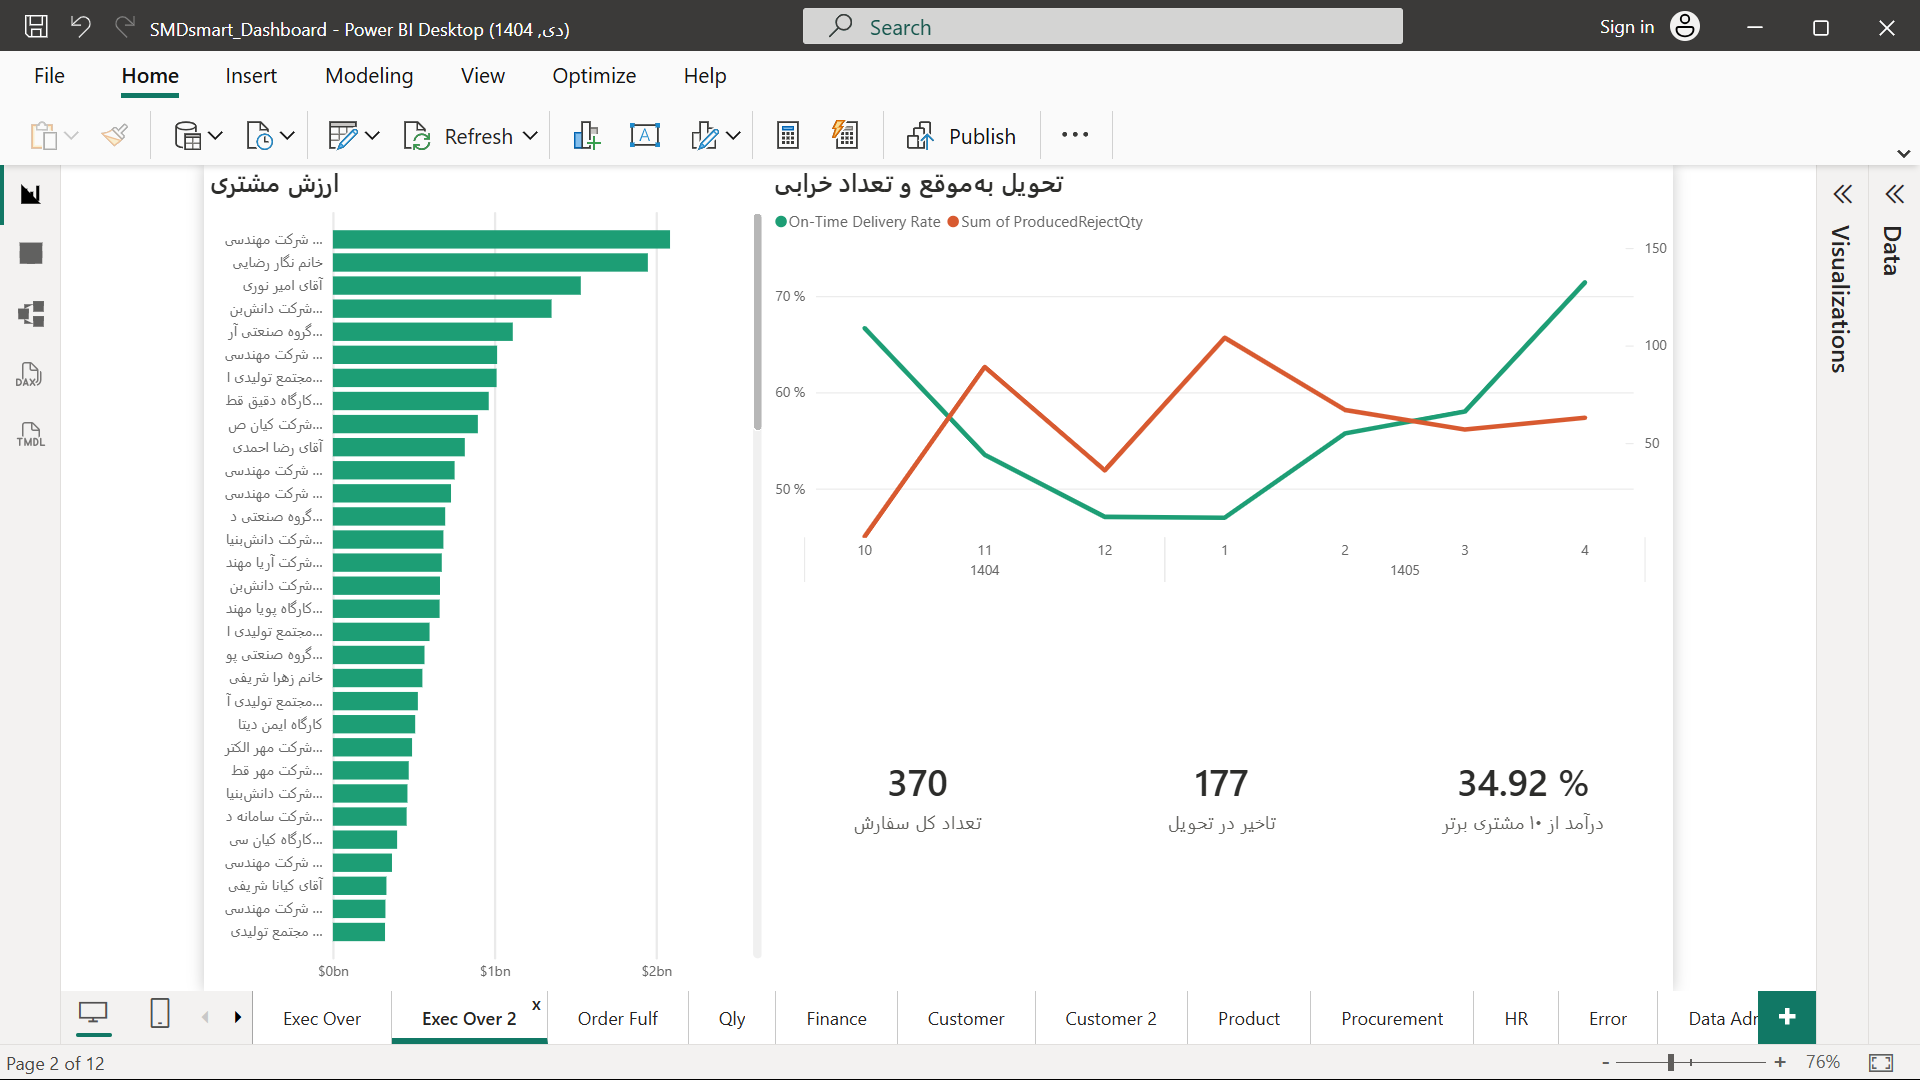

The page's visual inventory and layout, read from the dashboard file:
{"tool":"powerbi","page":{"name":"Exec Over 2","canvas":[1280,720],"ordinal":1},"visuals":[{"type":"lineChart","title":"تحویل بهموقع و تعداد خرابی","fields":{"Y":["_Measures (2).On-Time Delivery Rate"],"Category":["DimDate.JalaliYear","DimDate.JalaliMonth"],"Y2":["Sum(FactOrder.ProducedRejectQty)"]},"box":[491.3,0,788.7,374.7],"z":0},{"type":"barChart","title":"ارزش مشتری","fields":{"Category":["DimCustomer.CustomerName"],"Y":["_Measures (2).CLV (Historical)"]},"box":[0,0,491.3,720.2],"z":1000},{"type":"card","fields":{"Values":["_Measures (2).Late Orders"]},"box":[756.6,374.7,259.5,345.5],"z":2000},{"type":"card","fields":{"Values":["_Measures (2).Total Orders"]},"box":[491.3,374.7,260,345.5],"z":3000},{"type":"card","fields":{"Values":["_Measures (2).Top 10 Customer Revenue %"]},"box":[1020.5,374.7,259.5,345.5],"z":4000}]}

Visuals, with their boxes on the page's 1280x720 design canvas (x1, y1, x2, y2). These are canvas units, not pixel positions in the 1920x1080 screenshot, which may show the page scaled, cropped or inside an application window:
"تحویل بهموقع و تعداد خرابی" lineChart: [left=491, top=0, right=1280, bottom=375]
"ارزش مشتری" barChart: [left=0, top=0, right=491, bottom=720]
card - _Measures (2).Late Orders: [left=757, top=375, right=1016, bottom=720]
card - _Measures (2).Total Orders: [left=491, top=375, right=751, bottom=720]
card - _Measures (2).Top 10 Customer Revenue %: [left=1020, top=375, right=1280, bottom=720]
